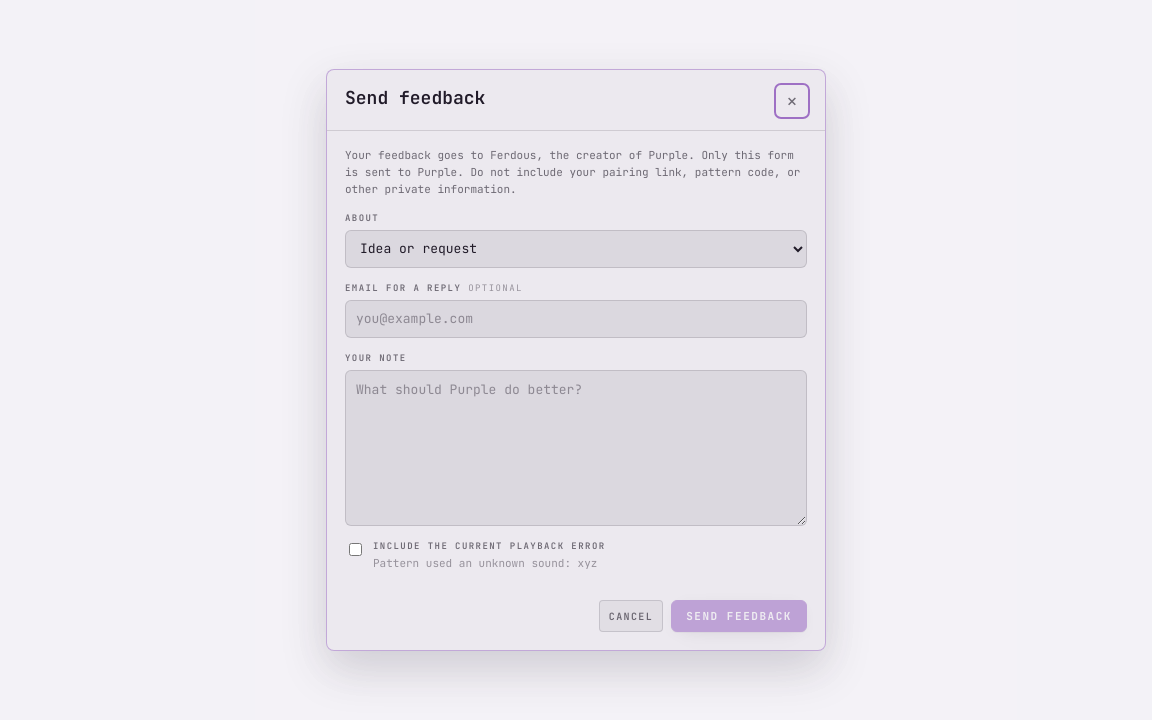
Test case: feedback dialog › appends the current playback error only when asked
This screenshot has width=1152, height=720.
Expected: the text "Pattern used an unknown sound: xyz" is shown, [373, 556, 606, 570]
Type "It died on play." into the text box with placeholder "What should Purple do better?" at (576, 448), box [345, 370, 807, 526]
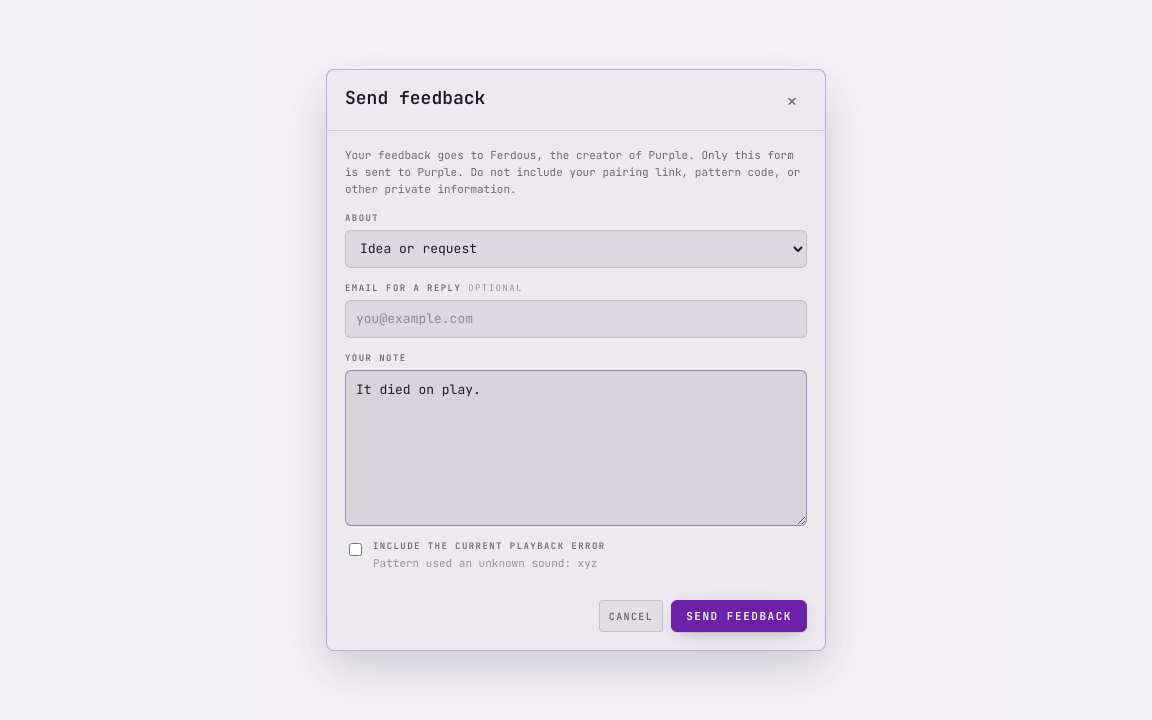
Click the checkbox labelled "INCLUDE THE CURRENT PLAYBACK ERROR" at (356, 550), box [349, 543, 362, 556]
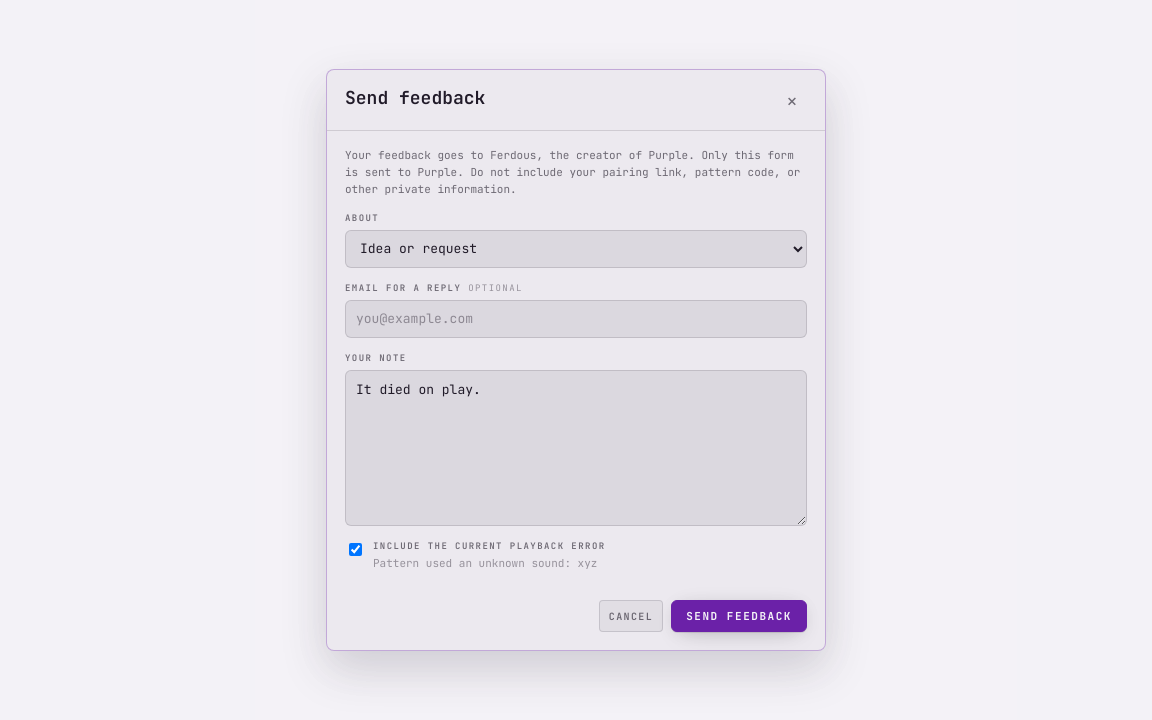
Click the button "SEND FEEDBACK" at (739, 616), box [671, 600, 807, 632]
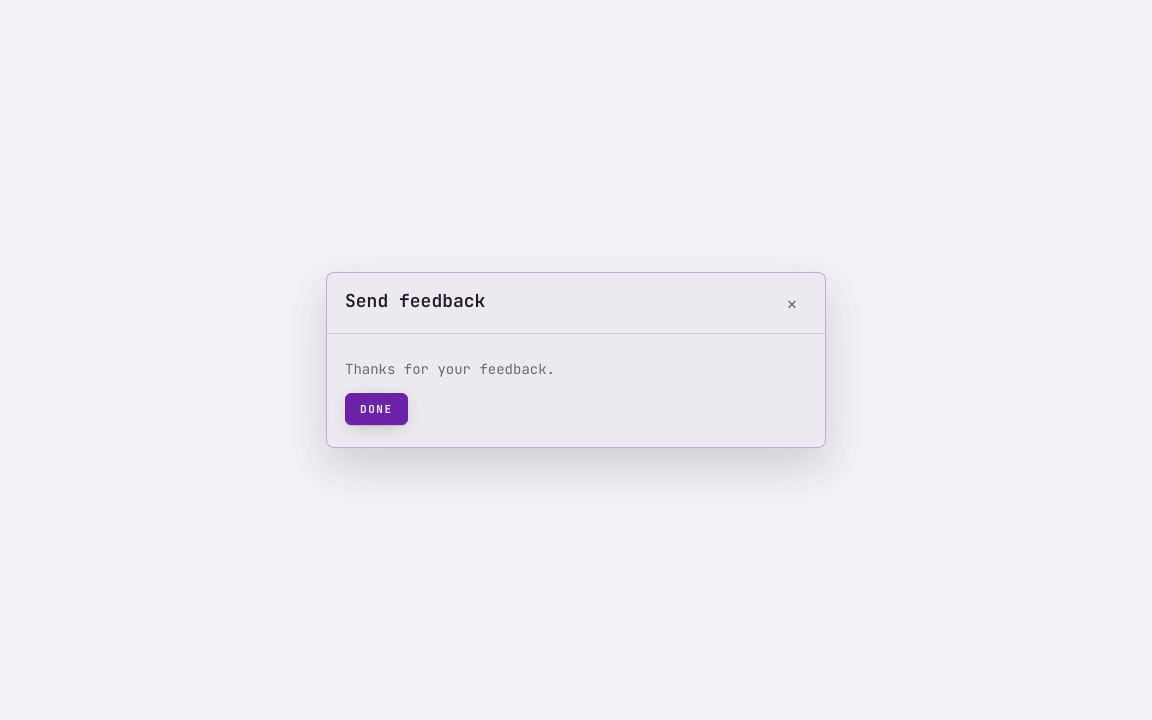
Now the text "Thanks for your feedback." is shown, box [345, 360, 555, 378]
